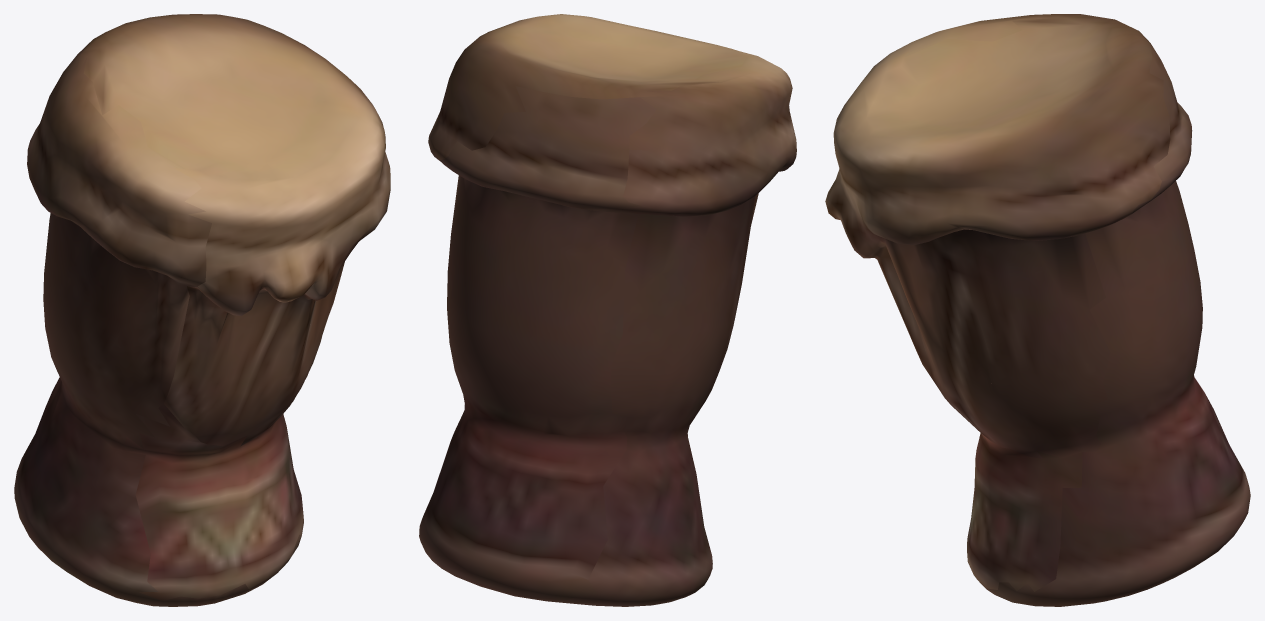
File: v08_tambor_pequeno.glb
3 views of the same model, side by side, from view 1: azimuth 30°, elevation 25°; view 2: azimuth 150°, elevation 25°; view 3: azimuth 270°, elevation 25° (orthographic).
Parts seen in each view (by area): view 1: v08_tambor_pequeno; view 2: v08_tambor_pequeno; view 3: v08_tambor_pequeno.
Part boxes in pixels (x1,y1,x2,y2): v08_tambor_pequeno: (14,14,390,606); v08_tambor_pequeno: (419,14,796,606); v08_tambor_pequeno: (825,14,1250,606).
Size of the model in its own units: 0.3221 by 0.5277 by 0.3839.
1 material, 1 textured.
